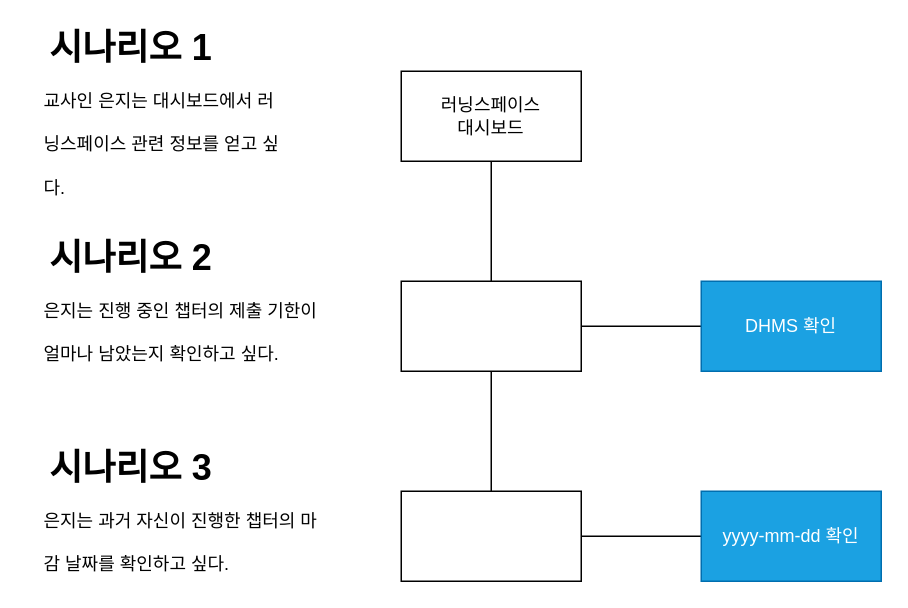
This 908x608 diagram has some shape labels left out. Here are the shapes that lost their labels. From the top down, the centre of each, then its label:
At pixel 490 325: "진행 중인 챕터 목록".
At pixel 490 535: "마감된 챕터 목록".
